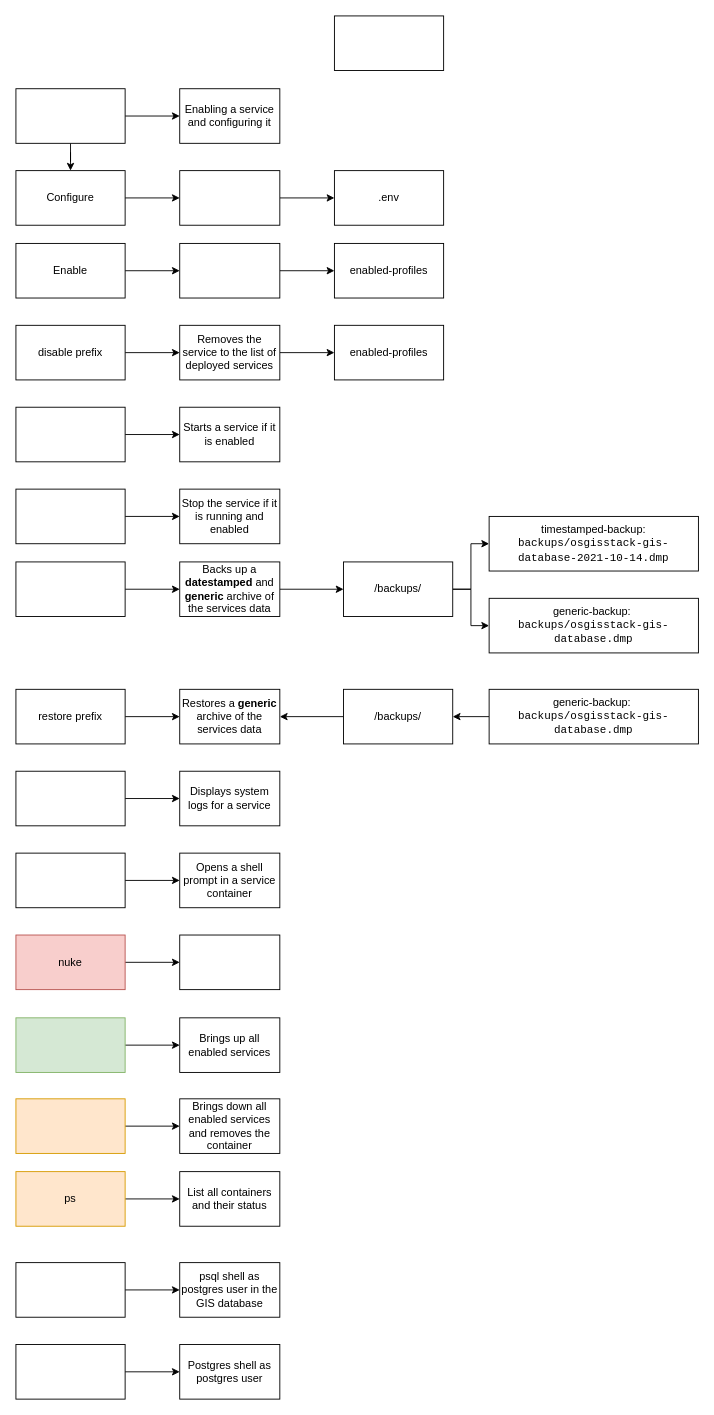
The diagram is 714 pixels wide and 1415 high, and some of its shapes have lost their labels. Here are the shapes that lost their labels. From the top down, the centre of each, then its label:
At point (389, 43): "Files".
At point (70, 115): "Deploy".
At point (229, 197): "Initial setup".
At point (229, 270): "Adds the service to the list of deployed services".
At point (70, 434): "start prefix".
At point (70, 516): "stop prefix".
At point (70, 589): "backup prefix".
At point (70, 798): "logs suffix".
At point (70, 880): "shell suffix".
At point (229, 962): "Wipes out your whole deployment".
At point (70, 1044): "up".
At point (70, 1125): "kill".
At point (70, 1289): "db-psql-shell".
At point (70, 1371): "db-shell".
